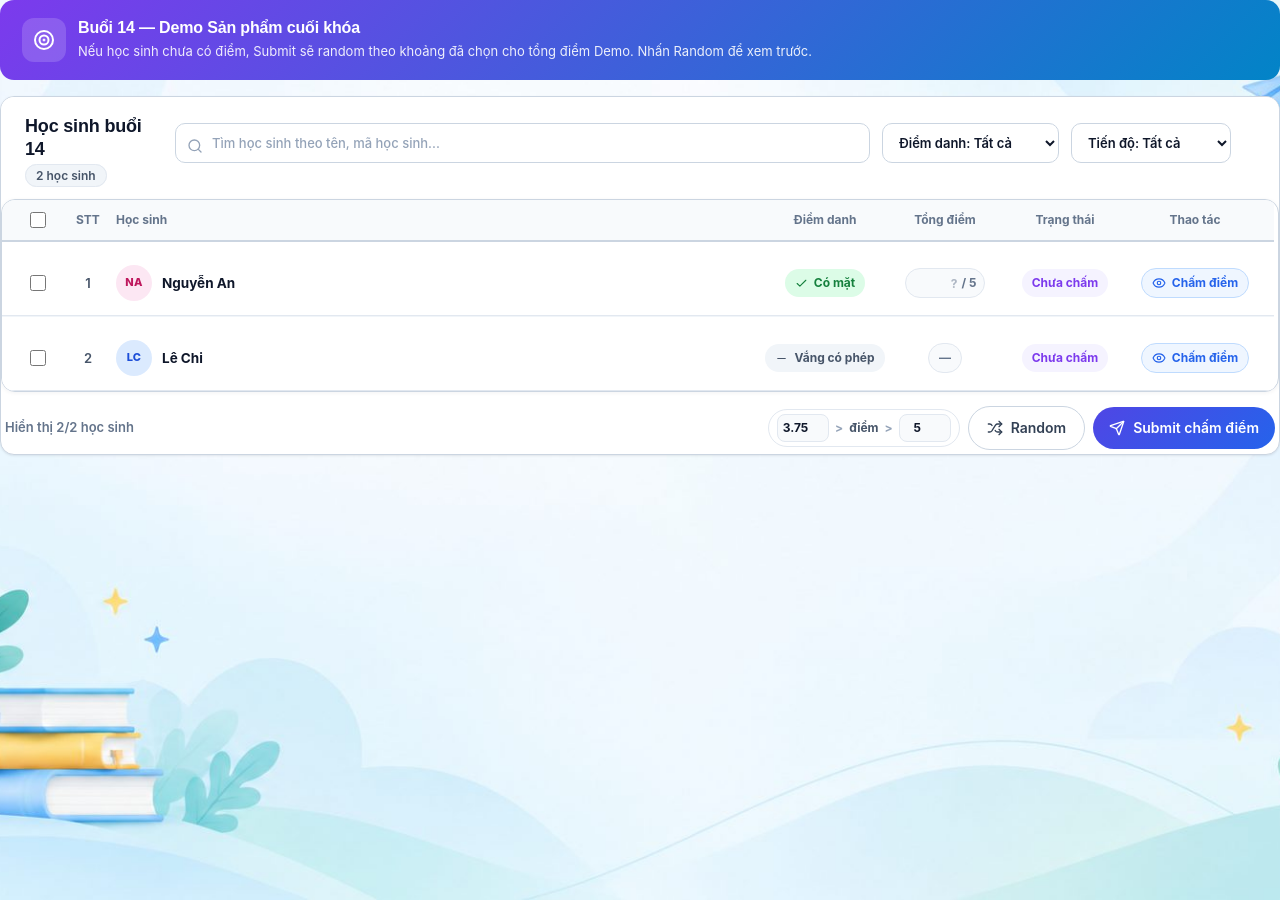
Test case: Demo workspace schema and UI › keeps absent students read-only and present-student actions backend driven
expect the button "Nguyễn An" is shown: met, box [2,252,1274,316]
Click the 1st button "Chấm điểm" at (1195, 283), box [1141,268,1249,298]
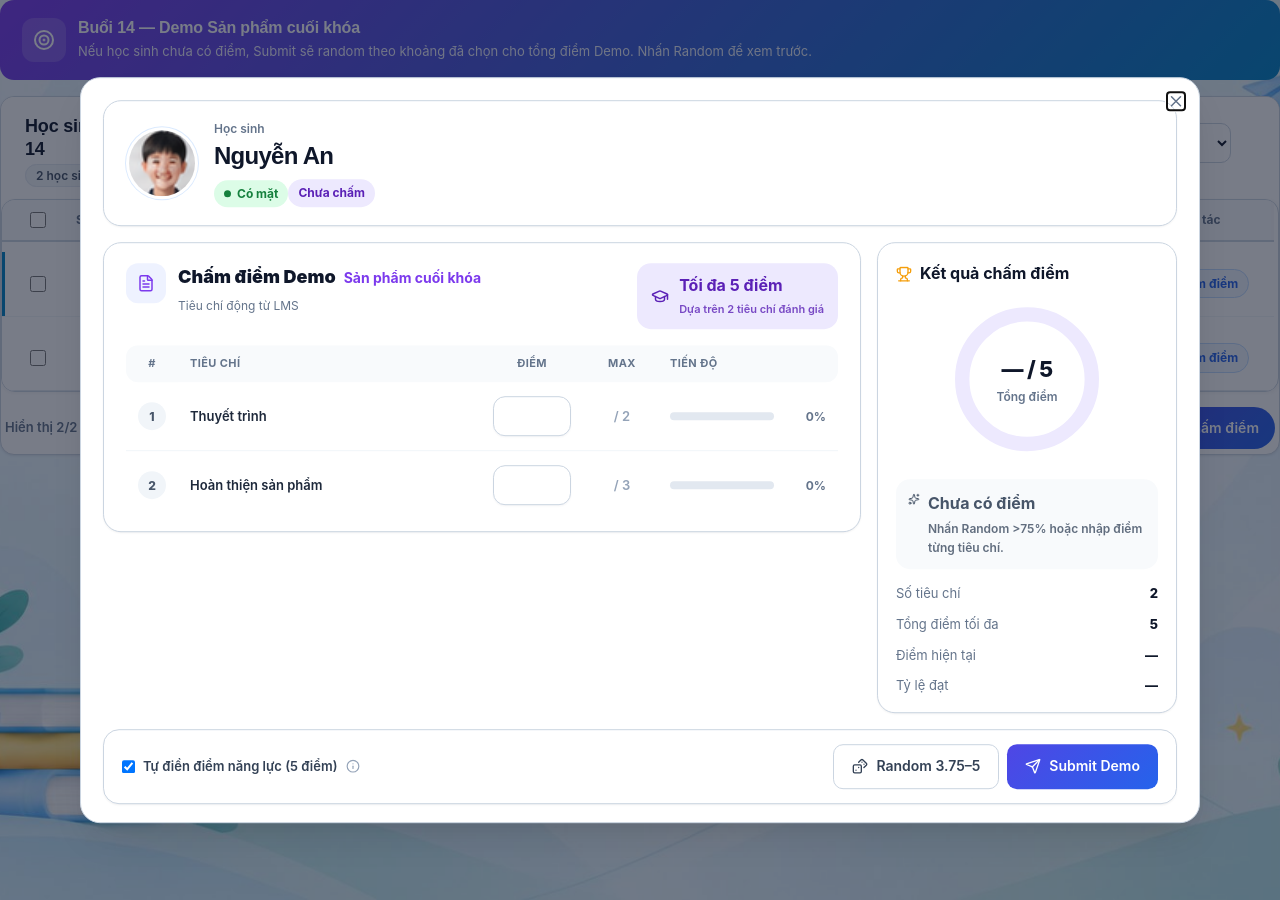
Click the button "Random 3.75–5" at (916, 767), box [833,744,999,789]
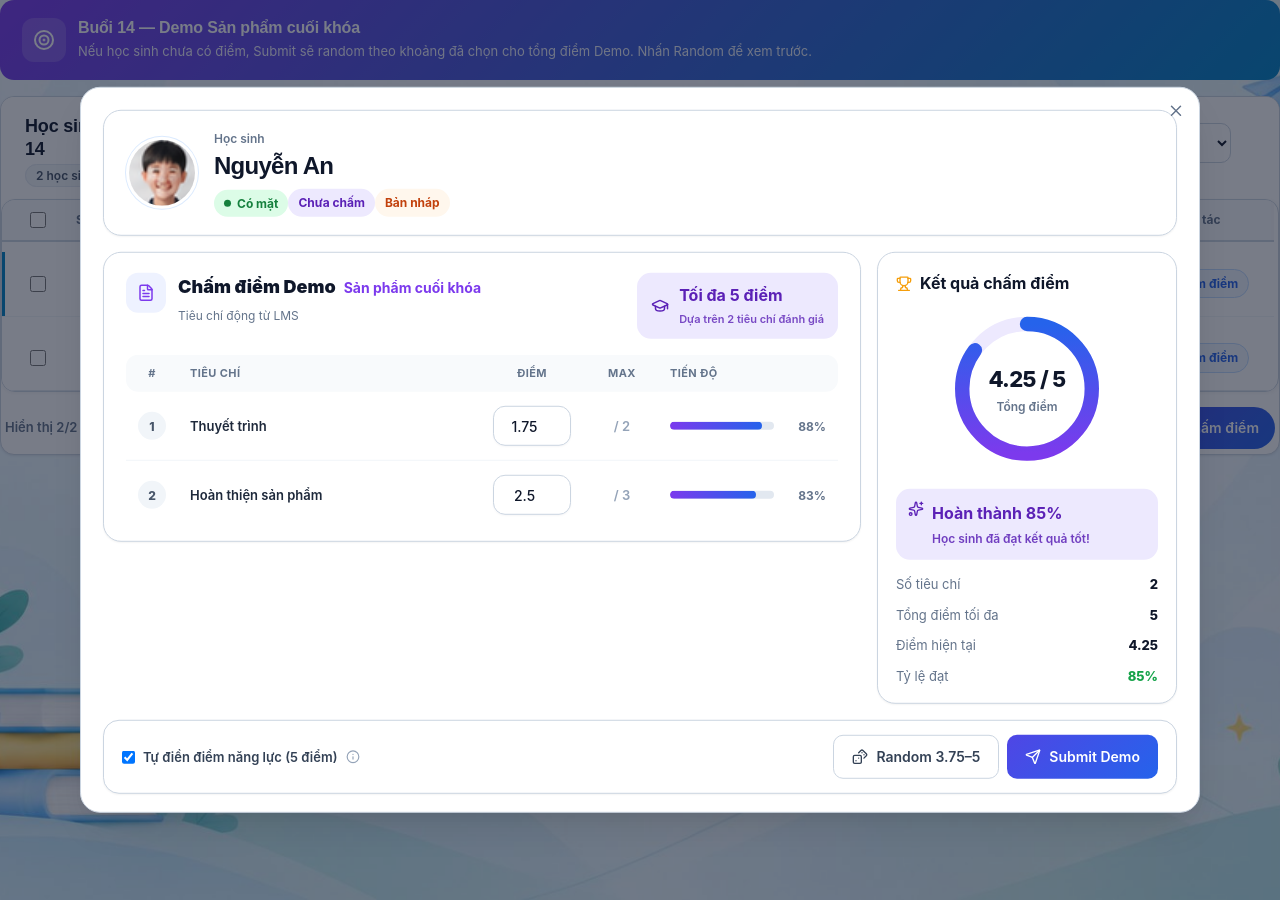
expect the number field named "Điểm Thuyết trình của Nguyễn An" in the row of "Thuyết trình" holds "1.75": met, box [493,406,571,446]
expect the text "4.25 / 5" is shown: met, box [988,362,1066,397]
Click the button named "Đóng" at (1176, 111), box [1167,102,1185,120]
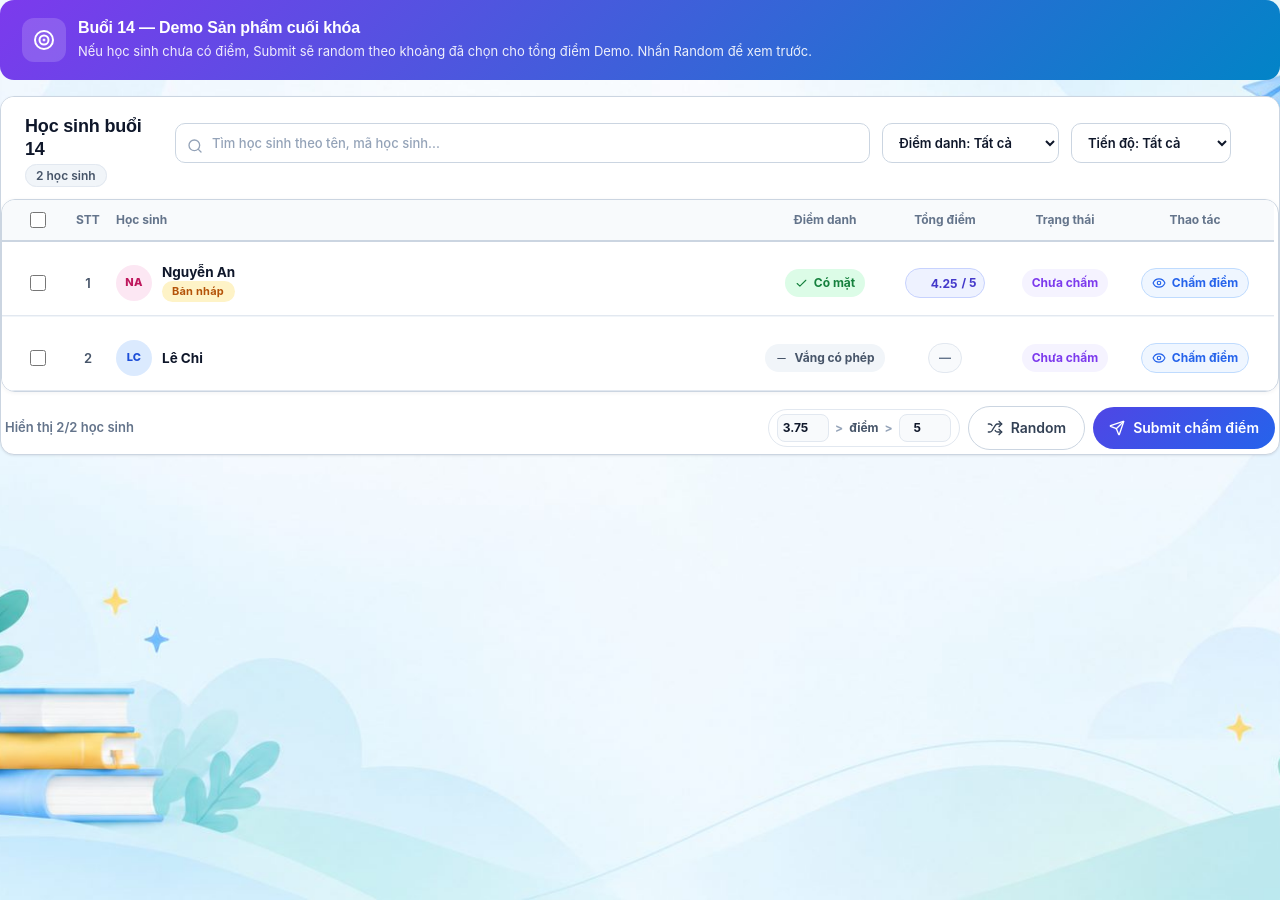
expect the dialog is gone: met
Click the button "Lê Chi" at (134, 358), box [2,327,1274,391]
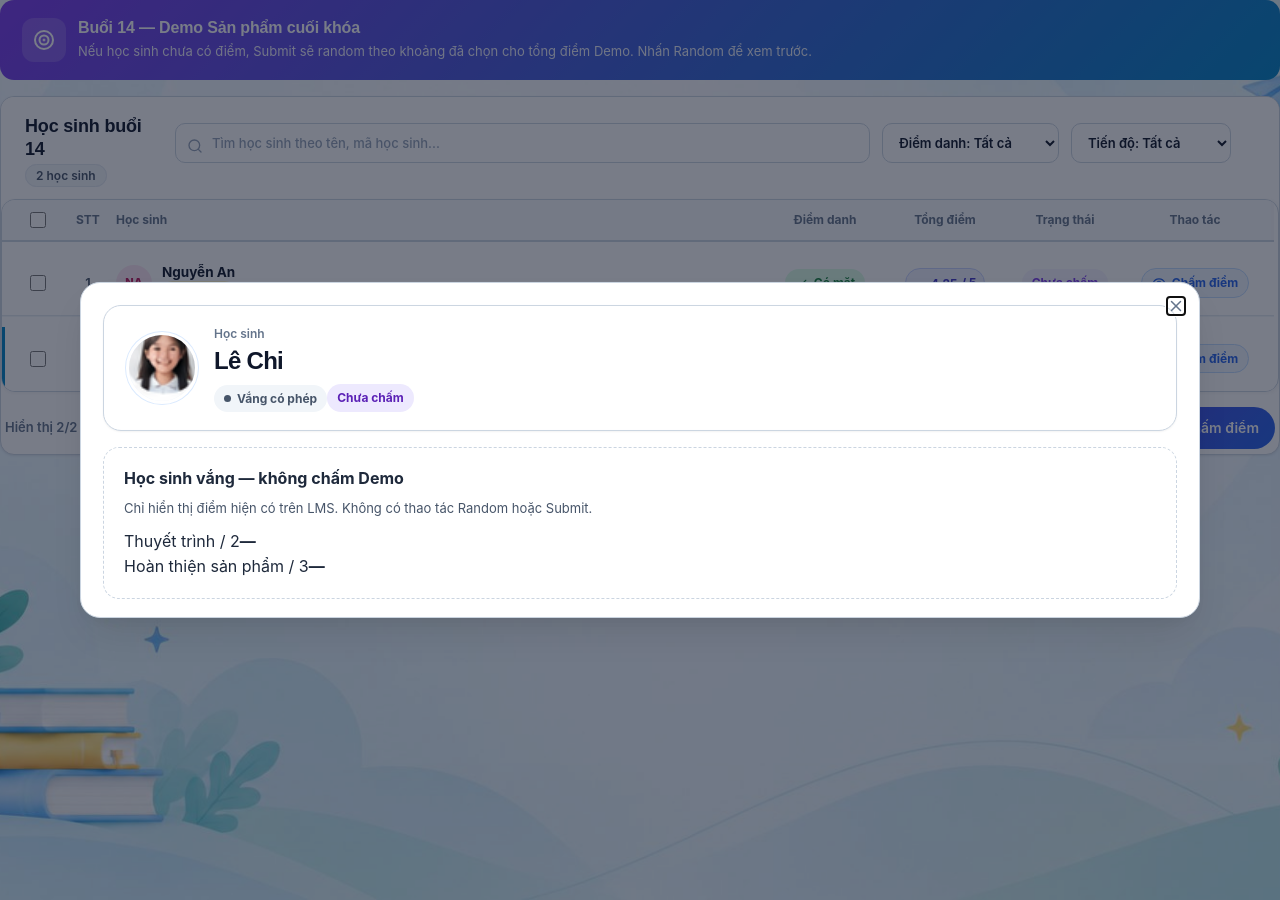
expect the button "Submit Demo" is not shown: met
expect the text "Học sinh vắng — không chấm Demo" is shown: met, box [124,468,404,488]
